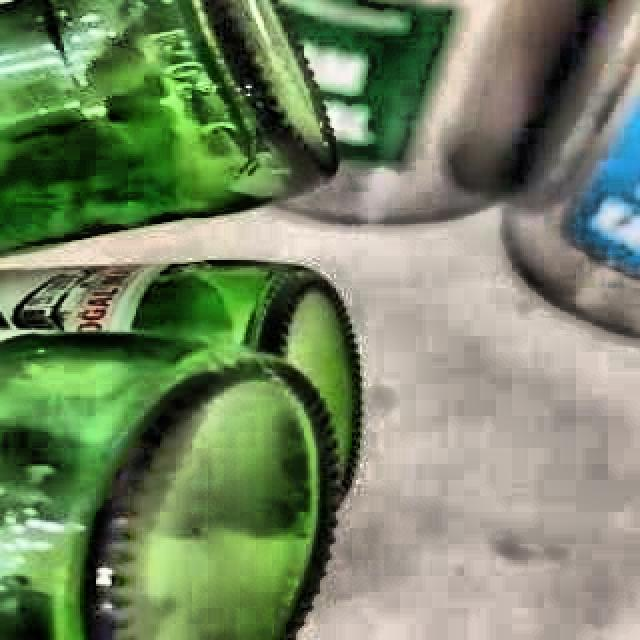glass: (0, 260, 363, 640)
